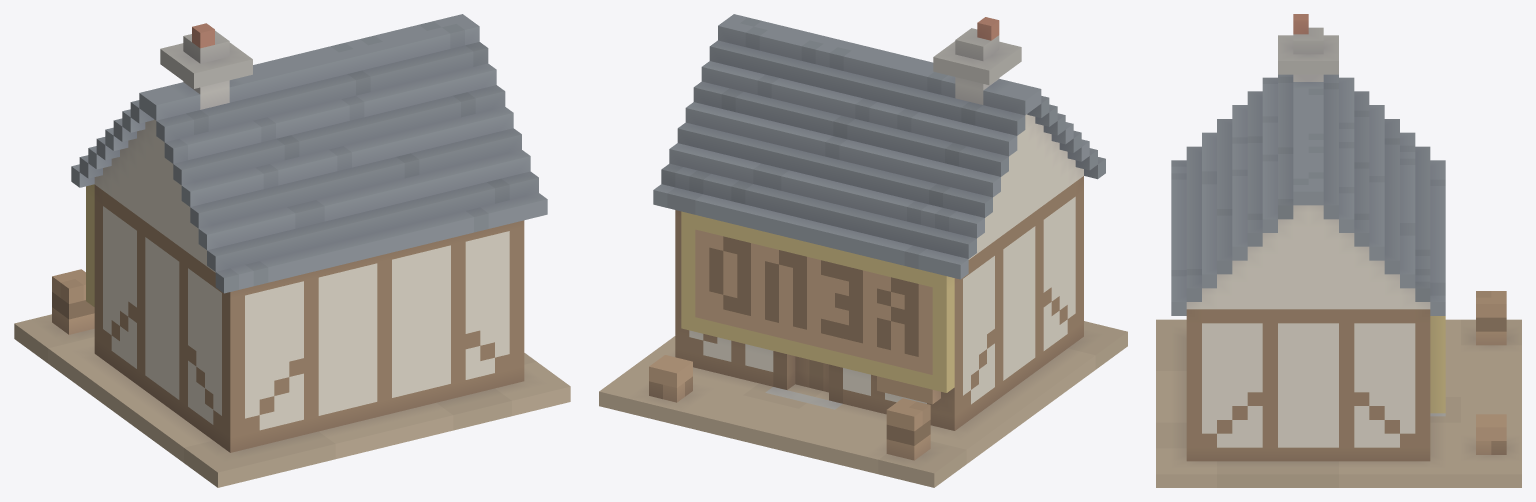
File: rendering_house.glb
The picture shows the model from 3 angles, left to right: view 1: azimuth 30°, elevation 25°; view 2: azimuth 150°, elevation 25°; view 3: azimuth 270°, elevation 25°; orthographic projection. The views are drawn at different scales.
Visible parts, largest first — view 1: rendering_house; view 2: rendering_house; view 3: rendering_house.
Boxes of the visible parts, left/top/right/bottom form: rendering_house: left=14, top=14, right=570, bottom=487; rendering_house: left=599, top=14, right=1127, bottom=487; rendering_house: left=1156, top=14, right=1521, bottom=487.
Size of the model in its own units: 3 by 3.12 by 3.
